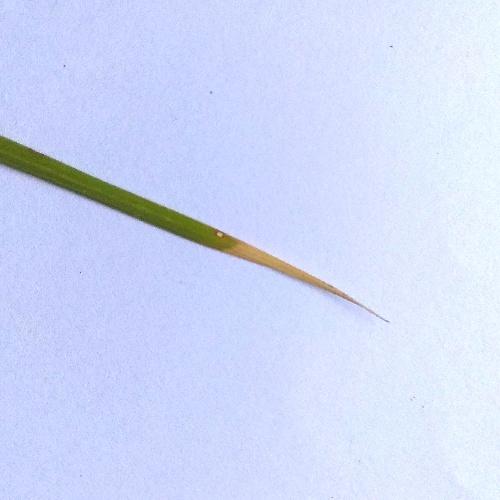Busuk Leher: (248, 236, 395, 330), (215, 227, 228, 242)
